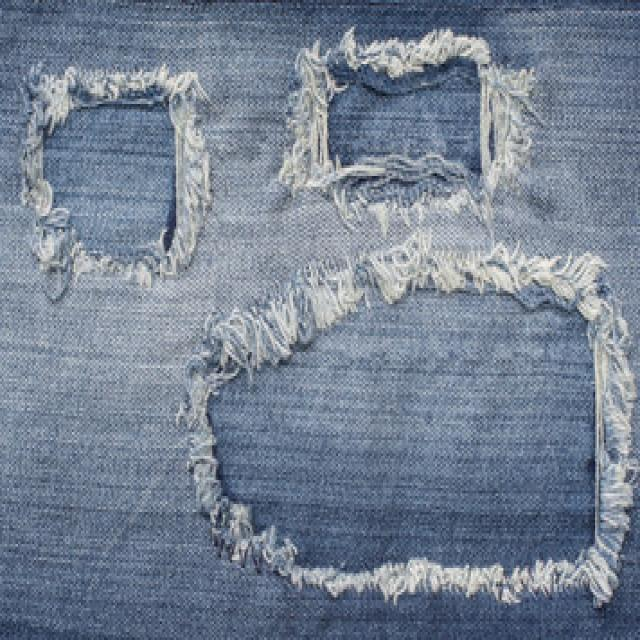Hole: (182, 246, 636, 606), (279, 29, 534, 250), (22, 66, 211, 302)
